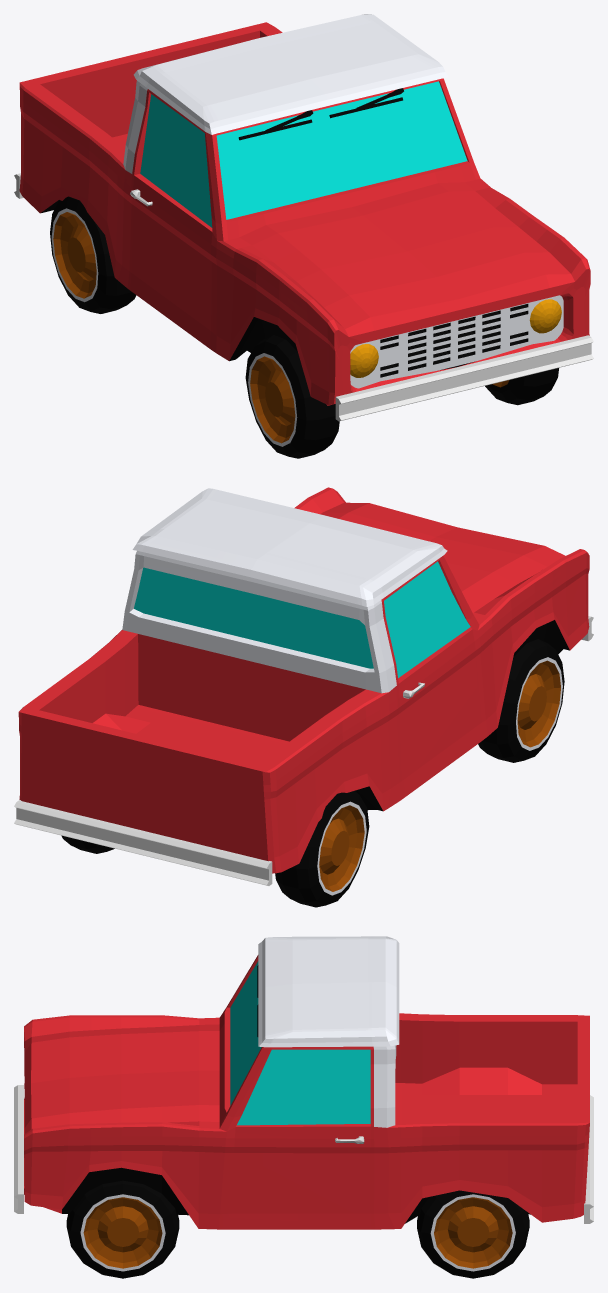
Rendered from RetroTruck.fbx.
3 renders of one model, top to bottom at view 1: azimuth 30°, elevation 25°; view 2: azimuth 150°, elevation 25°; view 3: azimuth 270°, elevation 25°, orthographic. The views are drawn at different scales.
Visible parts, largest first — view 1: RetroTruck; view 2: RetroTruck; view 3: RetroTruck.
Boxes of the visible parts, <box> form: RetroTruck: <box>14,14,593,458</box>; RetroTruck: <box>14,487,593,907</box>; RetroTruck: <box>14,936,593,1278</box>.
Size of the model in its own units: 180 by 170 by 362.
